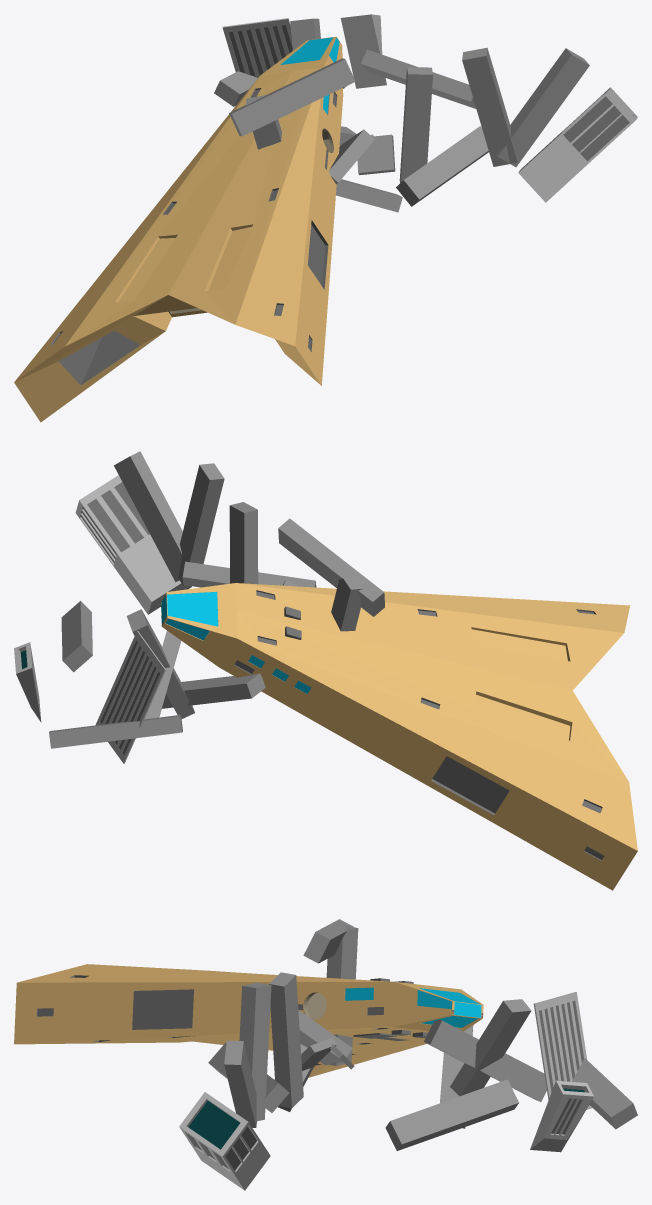
The model's file is wreck.glb.
3 views of the same model, one above another, from view 1: azimuth 30°, elevation 25°; view 2: azimuth 150°, elevation 25°; view 3: azimuth 270°, elevation 25° (orthographic). The views are drawn at different scales.
Visible parts, largest first — view 1: Main Thruster; view 2: Main Thruster; view 3: Main Thruster.
Part boxes in pixels (x1,y1,x2,y2): Main Thruster: [14, 14, 637, 422]; Main Thruster: [14, 451, 637, 890]; Main Thruster: [14, 919, 637, 1190].
Size of the model in its own units: 62.72 by 29.78 by 54.09.
